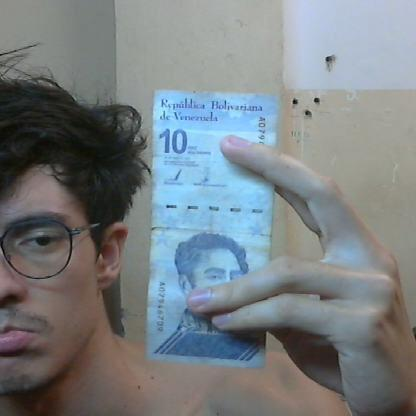ten-front-vef: (145, 90, 278, 369)
